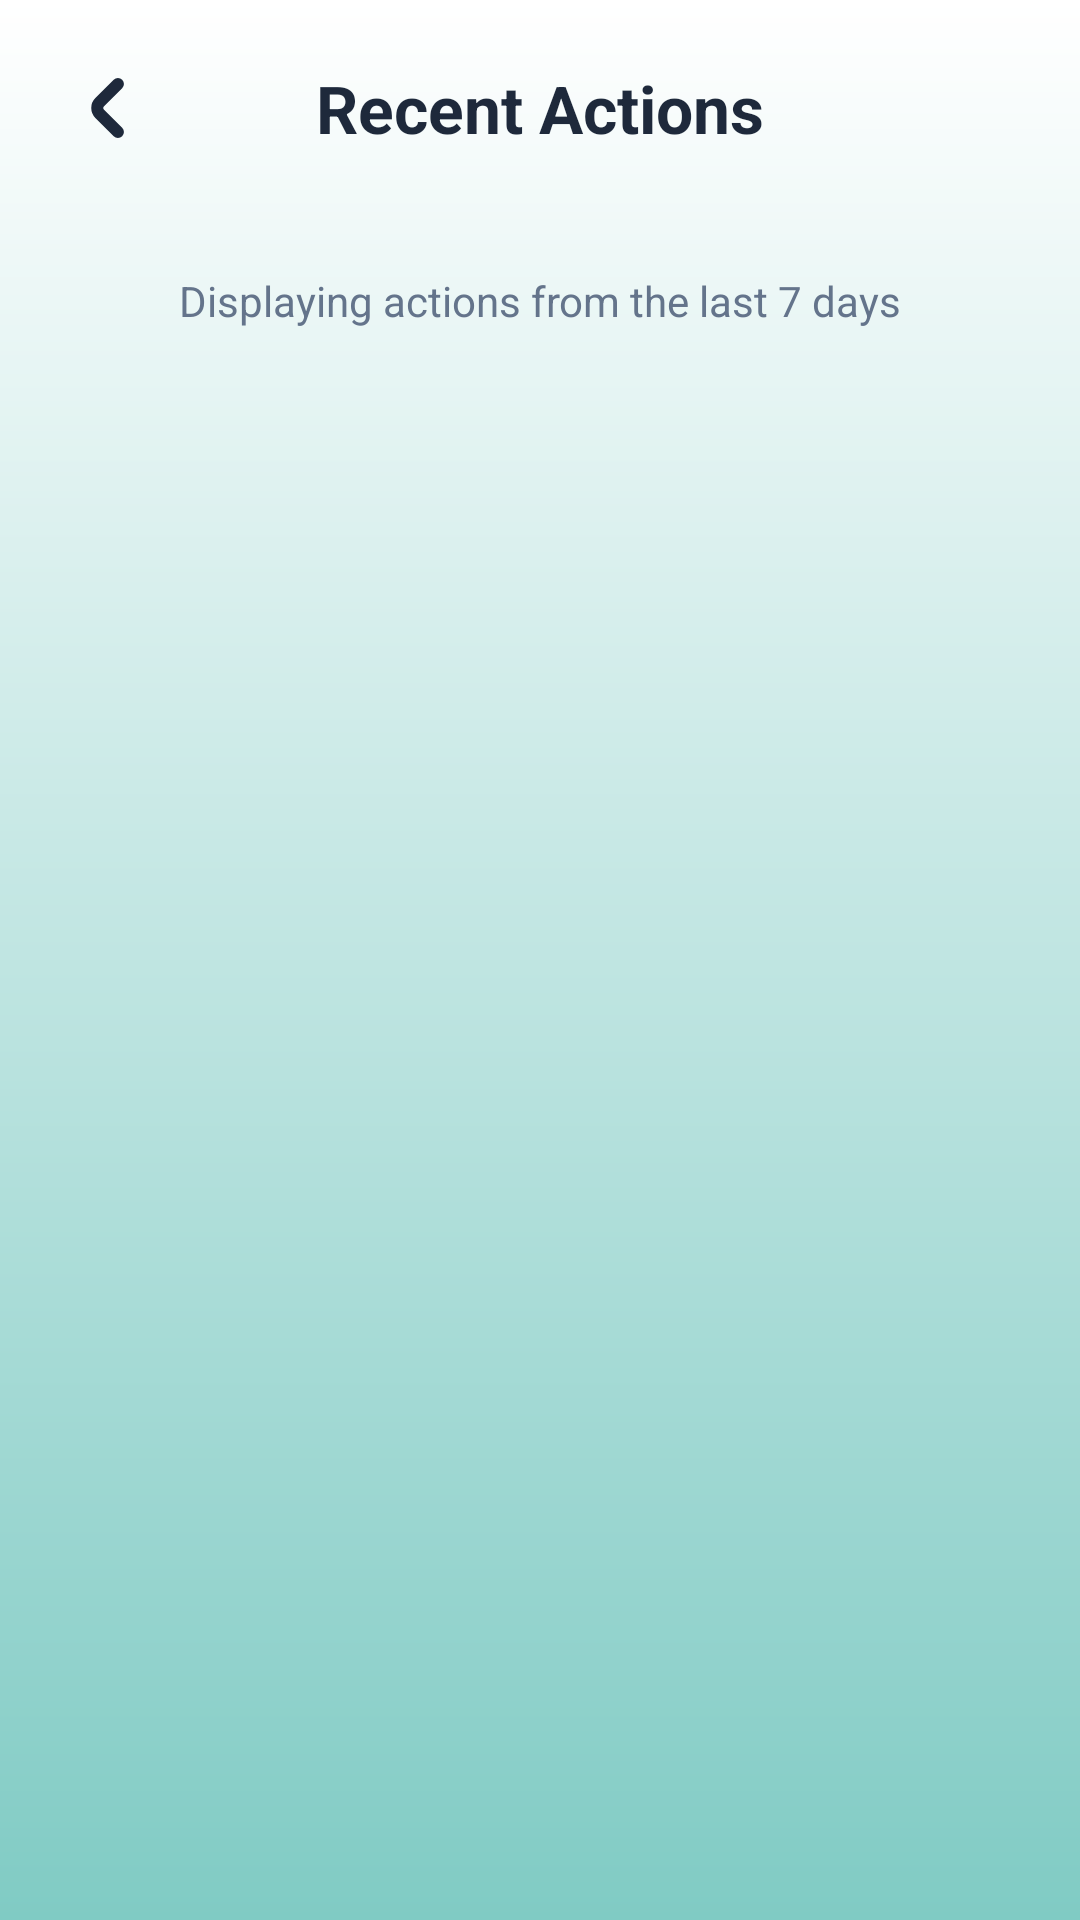

Locate icon controls on the screen. Image size 1080 x 1920, boxes as (x1, y1, x2, y2).
back: (91, 78, 124, 138)
